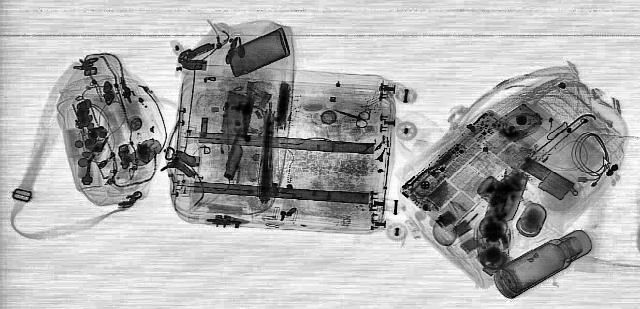Scissors: (325, 104, 383, 128)
